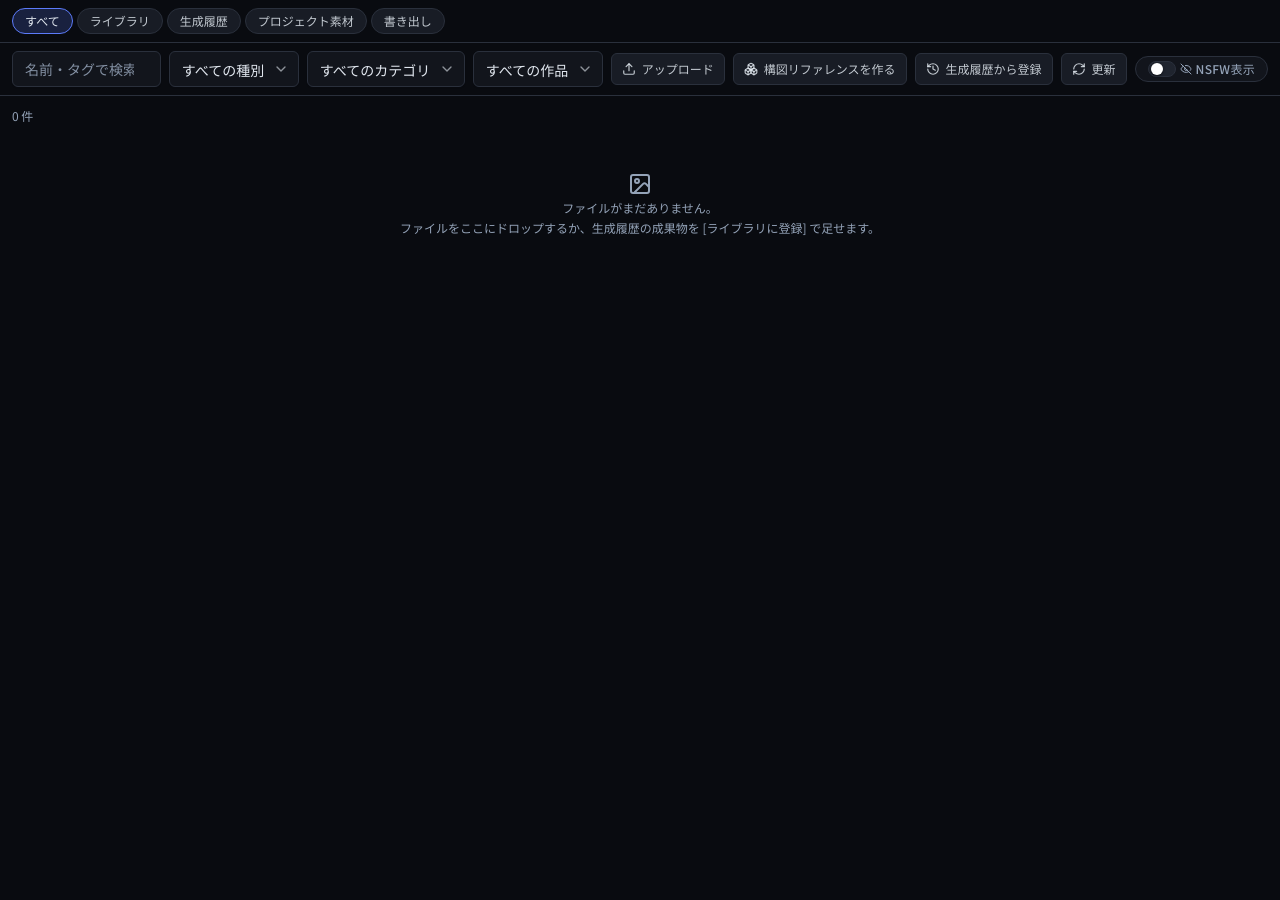
Test: LibraryView › 素材の追加リファレンス（声・動画・画像）を役割つきで並べる
The image size is (1280, 900).
Click the tab "プロジェクト素材".
click(306, 21)  # box [245,8,367,34]
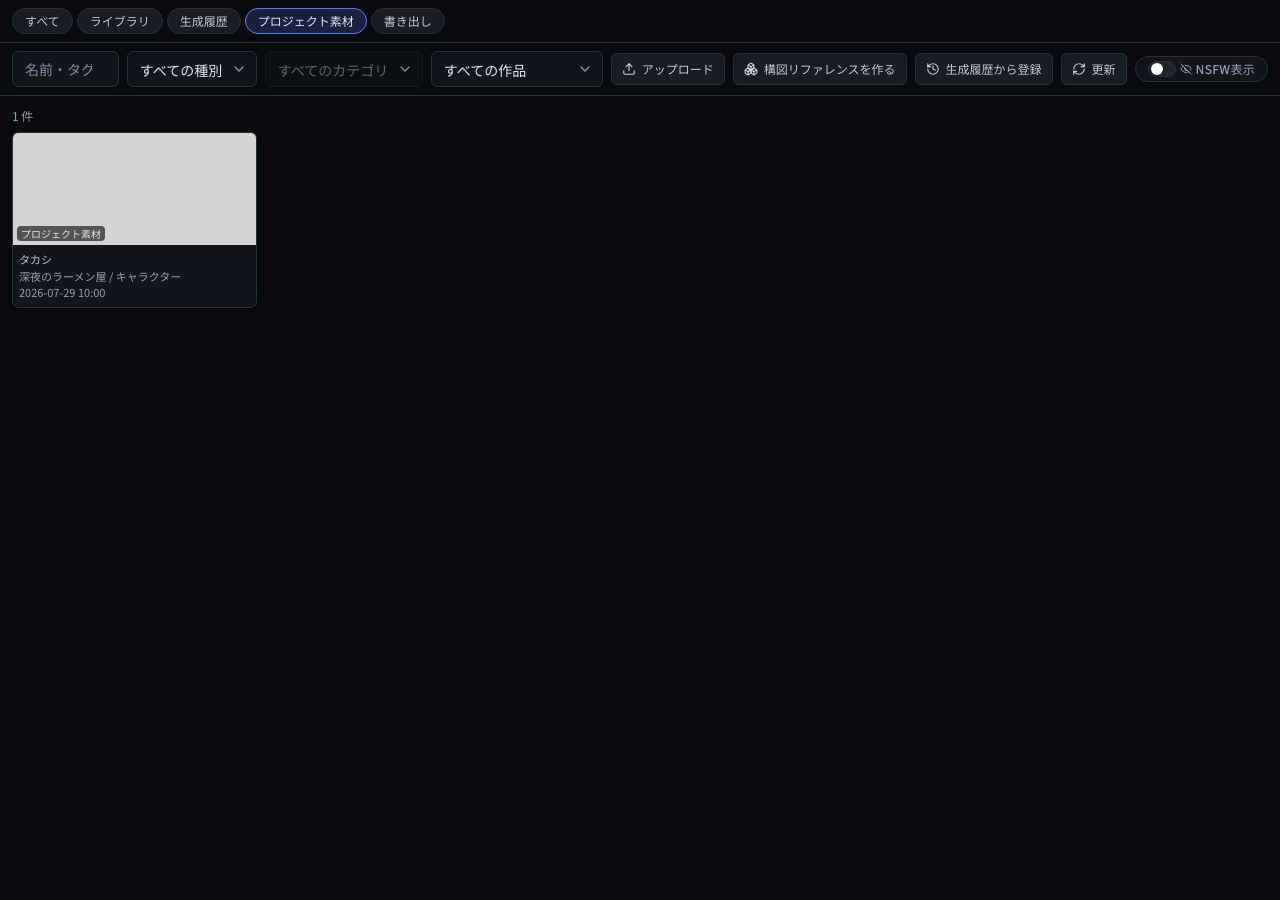
Click the text "タカシ".
click(36, 259)  # box [19,251,52,267]
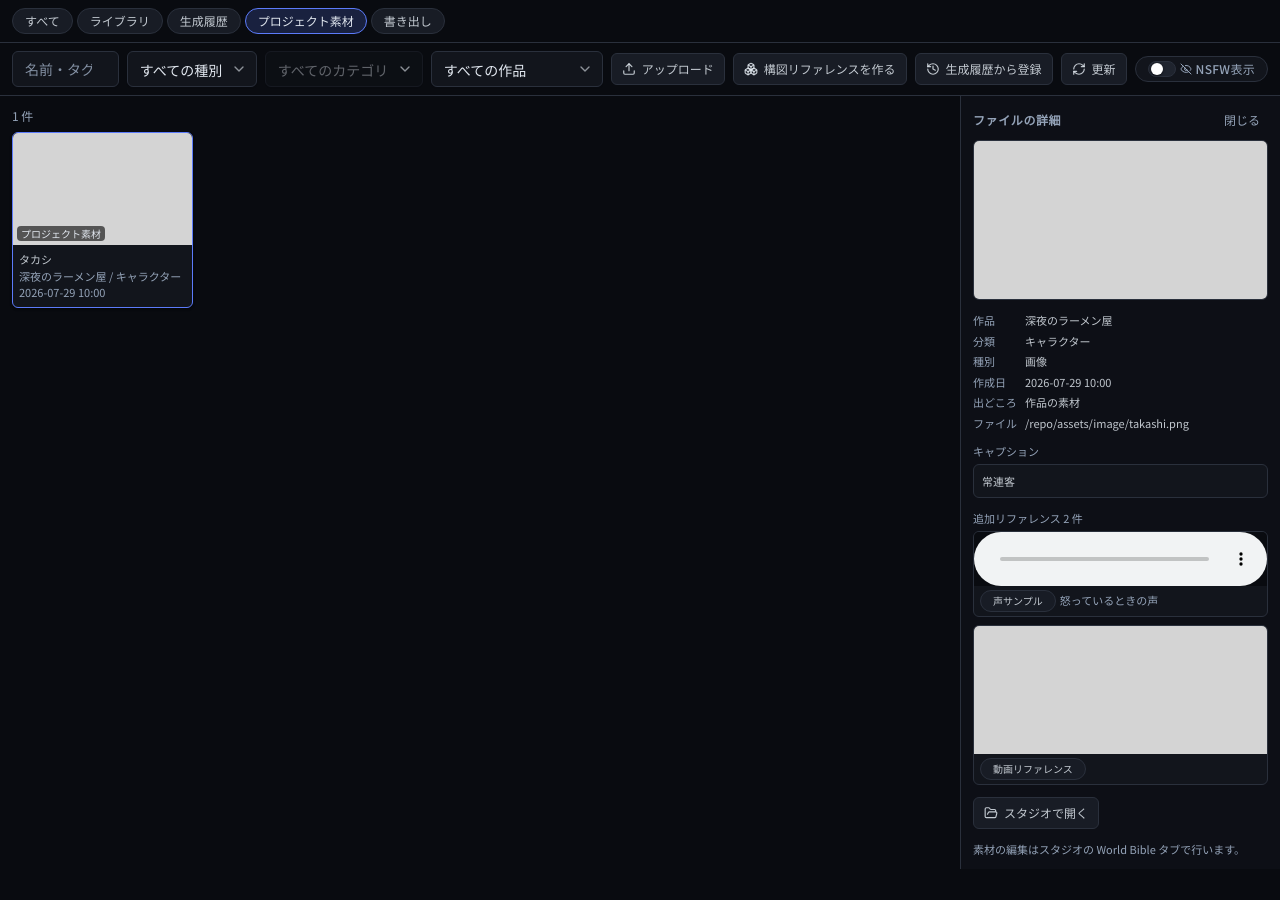
Expected: the text "追加リファレンス 2 件" is shown, [973,510,1083,526]
Expected: the text "声サンプル" is shown, [980,590,1056,612]
Expected: the text "動画リファレンス" is shown, [980,758,1086,780]
